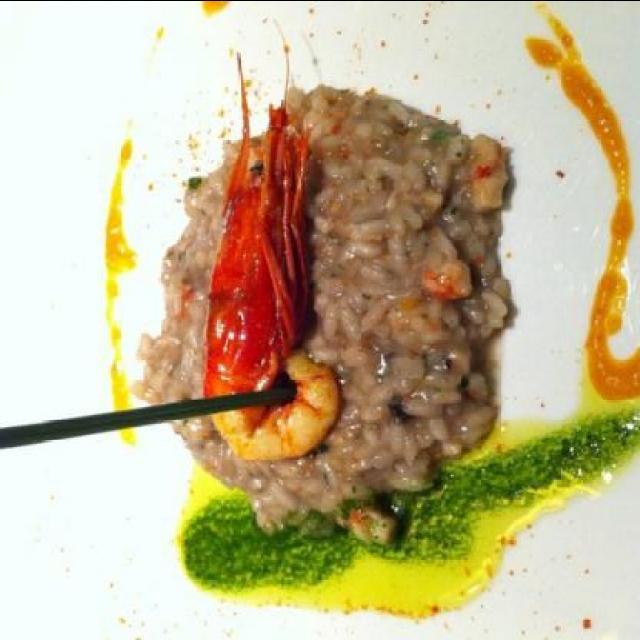Risotto: (137, 37, 515, 540)
